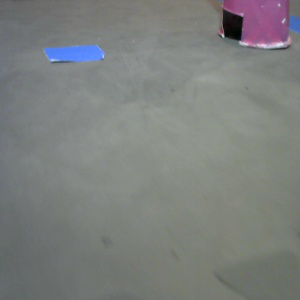right: (217, 1, 293, 49)
